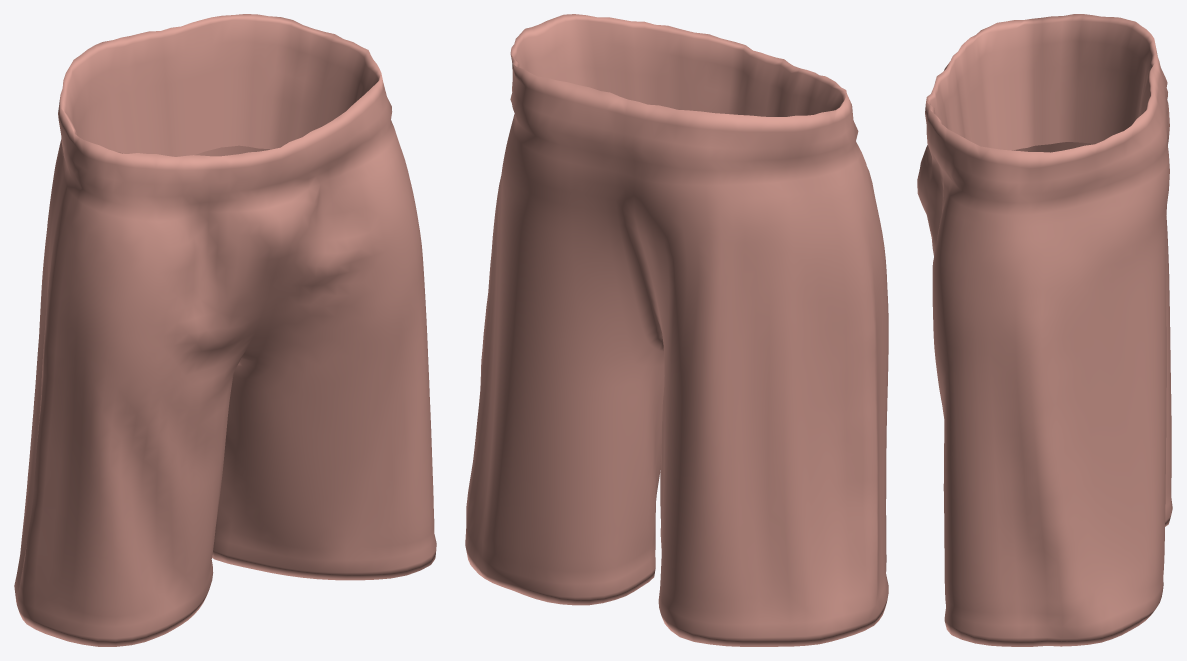
File: shorts-men-1.glb
The picture shows the model from 3 angles, left to right: view 1: azimuth 30°, elevation 25°; view 2: azimuth 150°, elevation 25°; view 3: azimuth 270°, elevation 25°; orthographic projection. The views are drawn at different scales.
Parts seen in each view (by area): view 1: Object_2; view 2: Object_2; view 3: Object_2.
Part boxes in pixels (x1,y1,x2,y2): Object_2: [14, 14, 436, 646]; Object_2: [465, 14, 888, 646]; Object_2: [917, 14, 1172, 646].
Size of the model in its own units: 0.4904 by 0.6261 by 0.2905.
